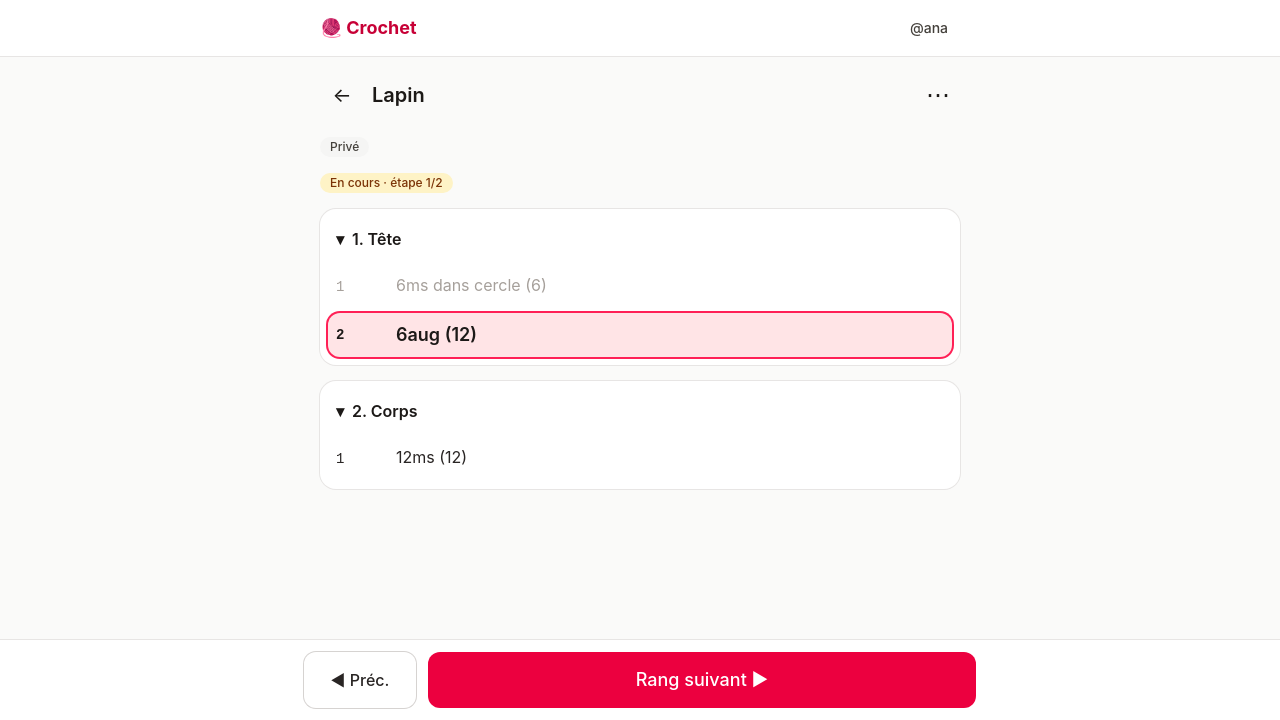
Test: menu du détail › abandonne l’avancement après confirmation
Step 1. Click the button named "Actions du pattern" → (938, 95), box top-left (916, 73), bottom-right (960, 117)
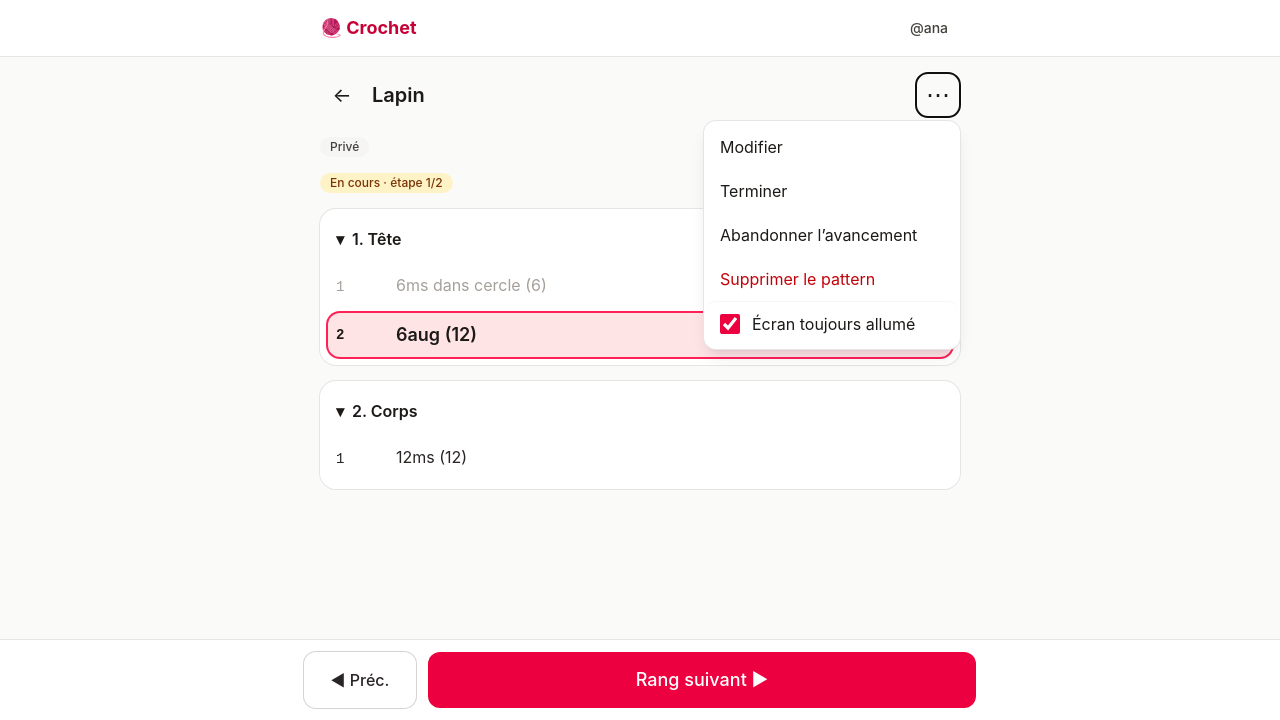
Step 2. Click the menu item "Abandonner l’avancement" → (832, 235), box top-left (708, 213), bottom-right (956, 257)
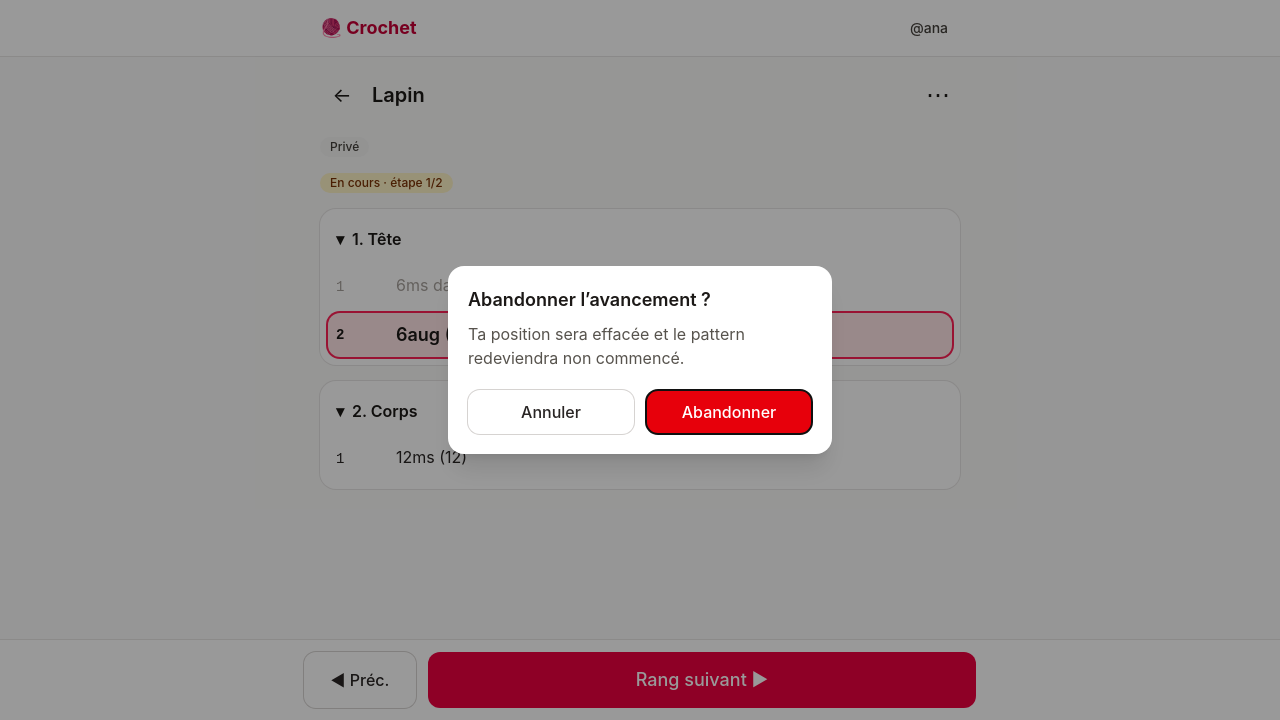
Step 3. Click the button "Abandonner" → (729, 412), box top-left (646, 390), bottom-right (812, 434)
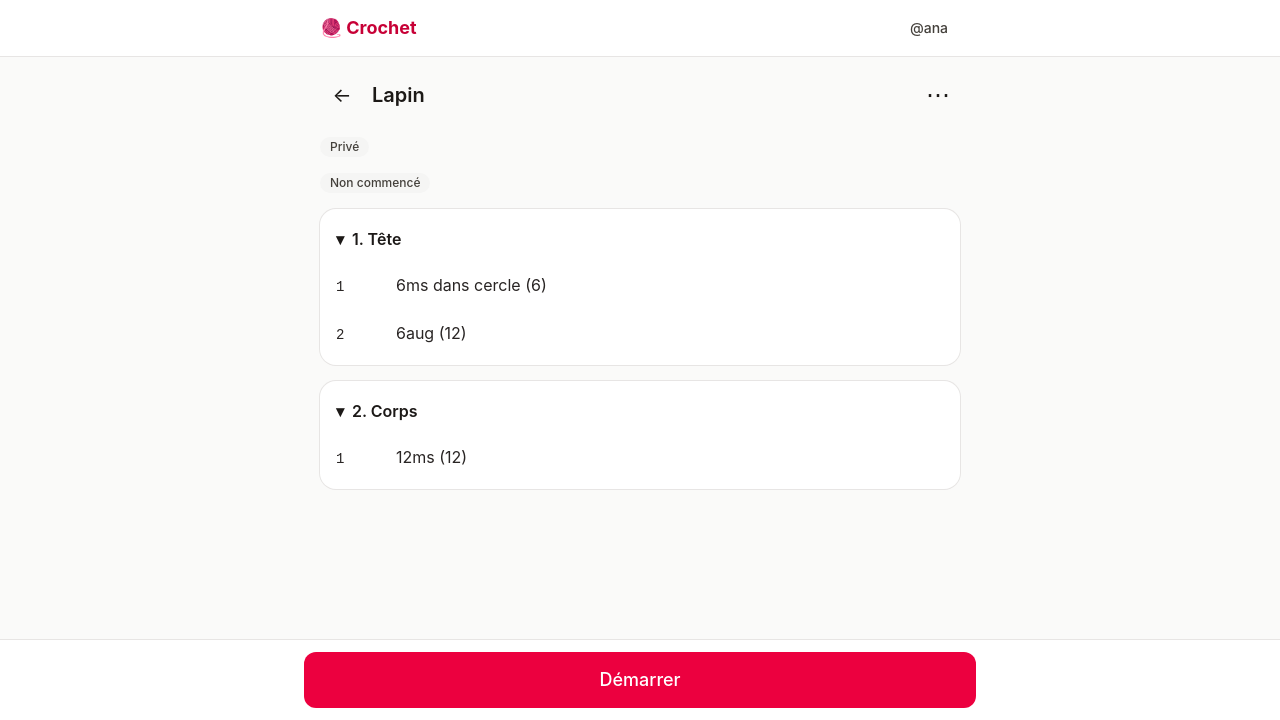
expect the button "Démarrer" is shown: met, box top-left (304, 652), bottom-right (976, 708)
